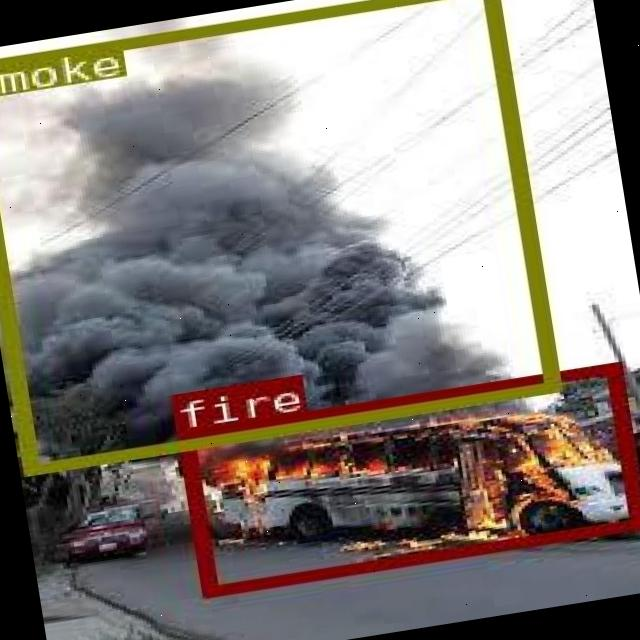fire: (175, 361, 640, 596)
smoke: (0, 0, 558, 474)
